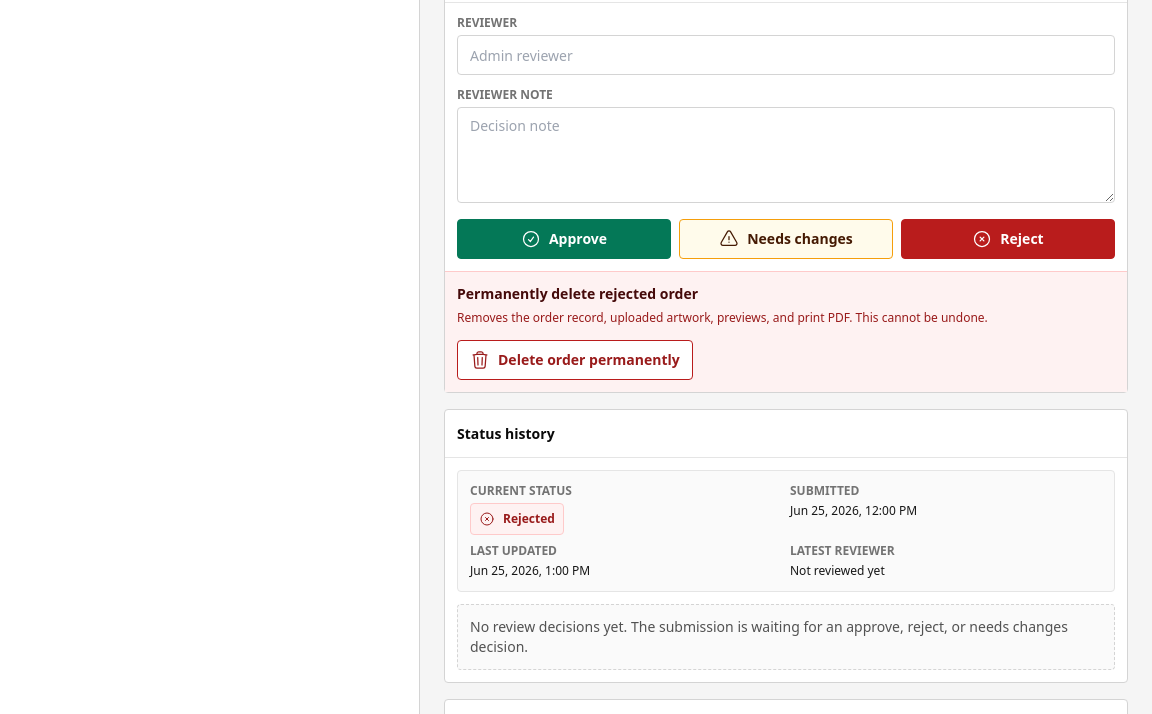
Test: AdminReviewScreen › permanently deletes a rejected order after confirmation
This screenshot has width=1152, height=714.
(page scrolled)
Click the button "Delete order permanently". click: {"x": 575, "y": 360}
box: [457,340,693,380]
(page scrolled)
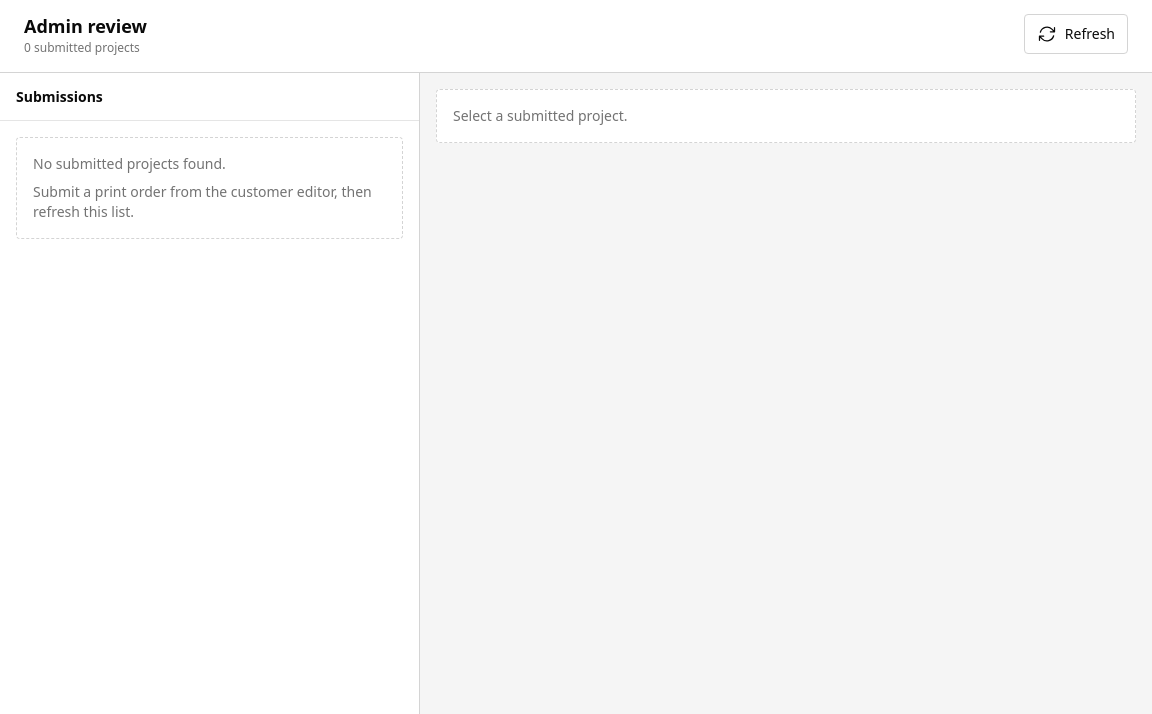
Result: the text "No submitted projects found." is shown at [33,154,226,173]
